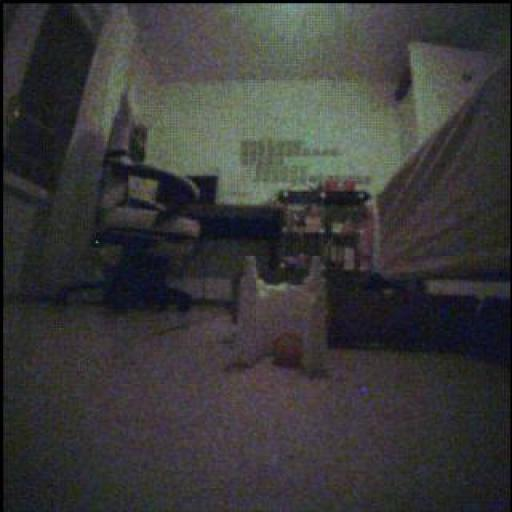basket: (270, 330, 304, 369)
